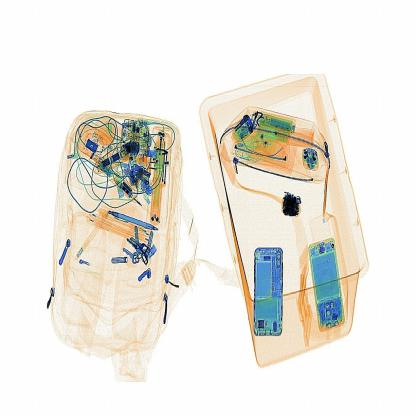scissors: (279, 184, 316, 224)
